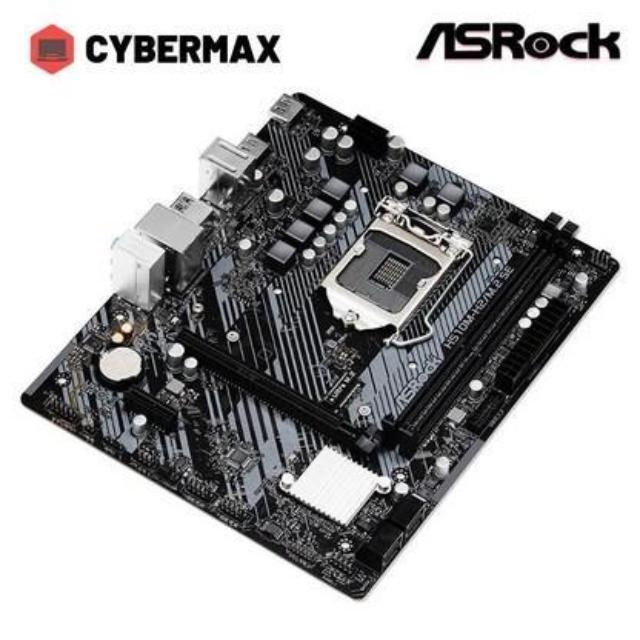Mainboard: (8, 87, 623, 595)
